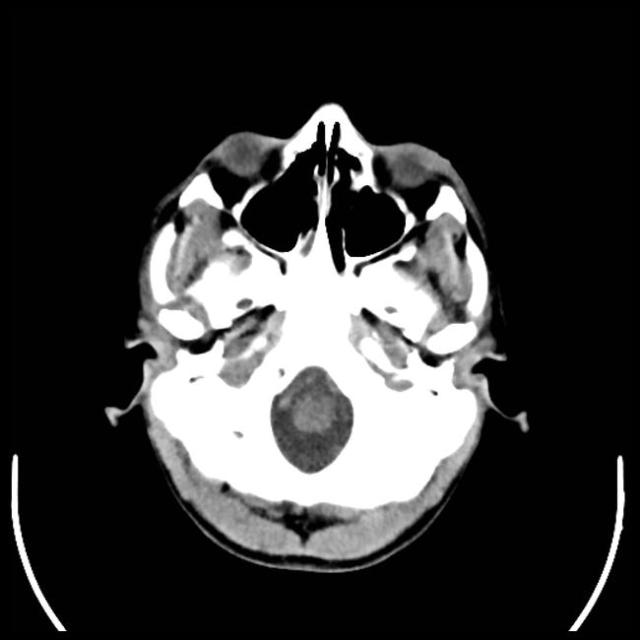lesion: (103, 98, 532, 575)
